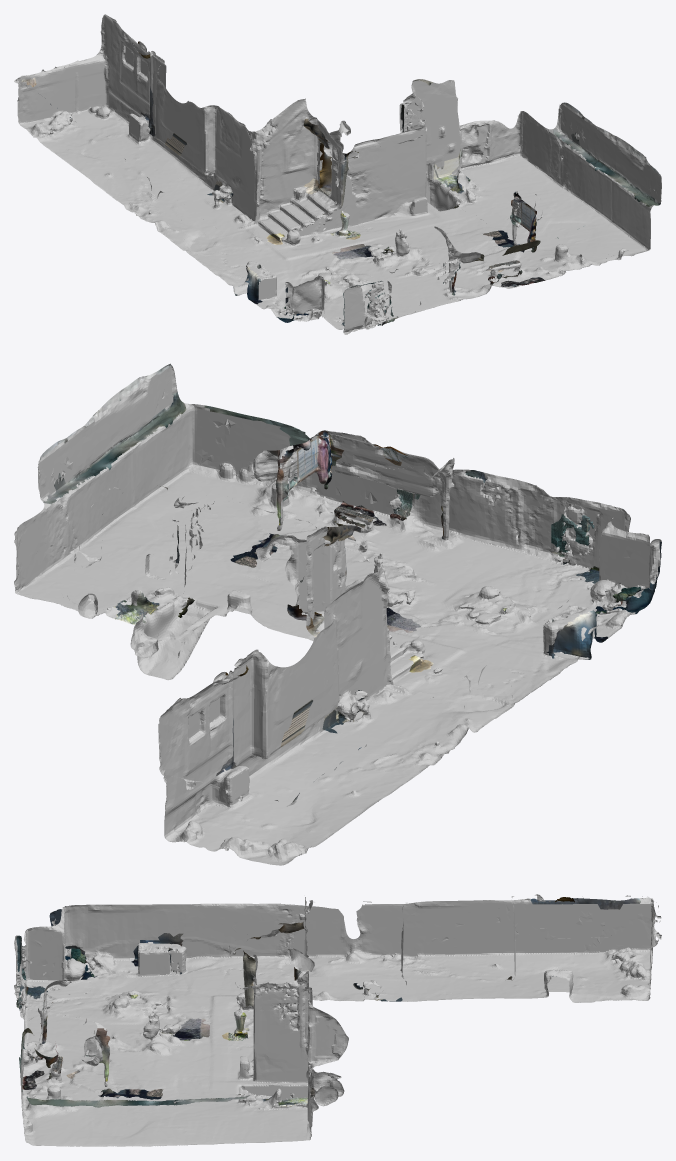
Rendered from raw.gltf.
The picture shows the model from 3 angles, top to bottom: view 1: azimuth 30°, elevation 25°; view 2: azimuth 150°, elevation 25°; view 3: azimuth 270°, elevation 25°; orthographic projection. The views are drawn at different scales.
Size of the model in its own units: 15.43 by 5.89 by 21.1.
